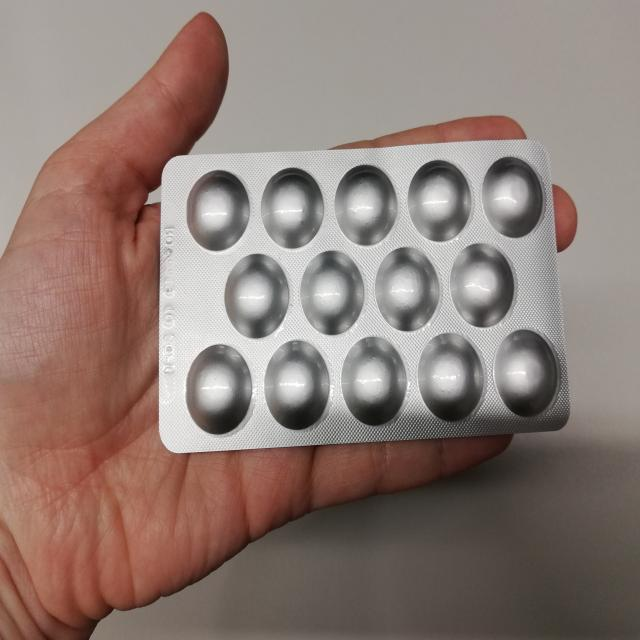Pill: (182, 341, 253, 437), (416, 333, 486, 424), (264, 341, 332, 433), (492, 330, 562, 419), (342, 338, 408, 429), (448, 244, 517, 329), (184, 167, 252, 252), (373, 248, 442, 331), (406, 158, 473, 243), (333, 162, 399, 248), (300, 251, 366, 336), (225, 252, 289, 339), (258, 165, 325, 248), (482, 154, 545, 238)
